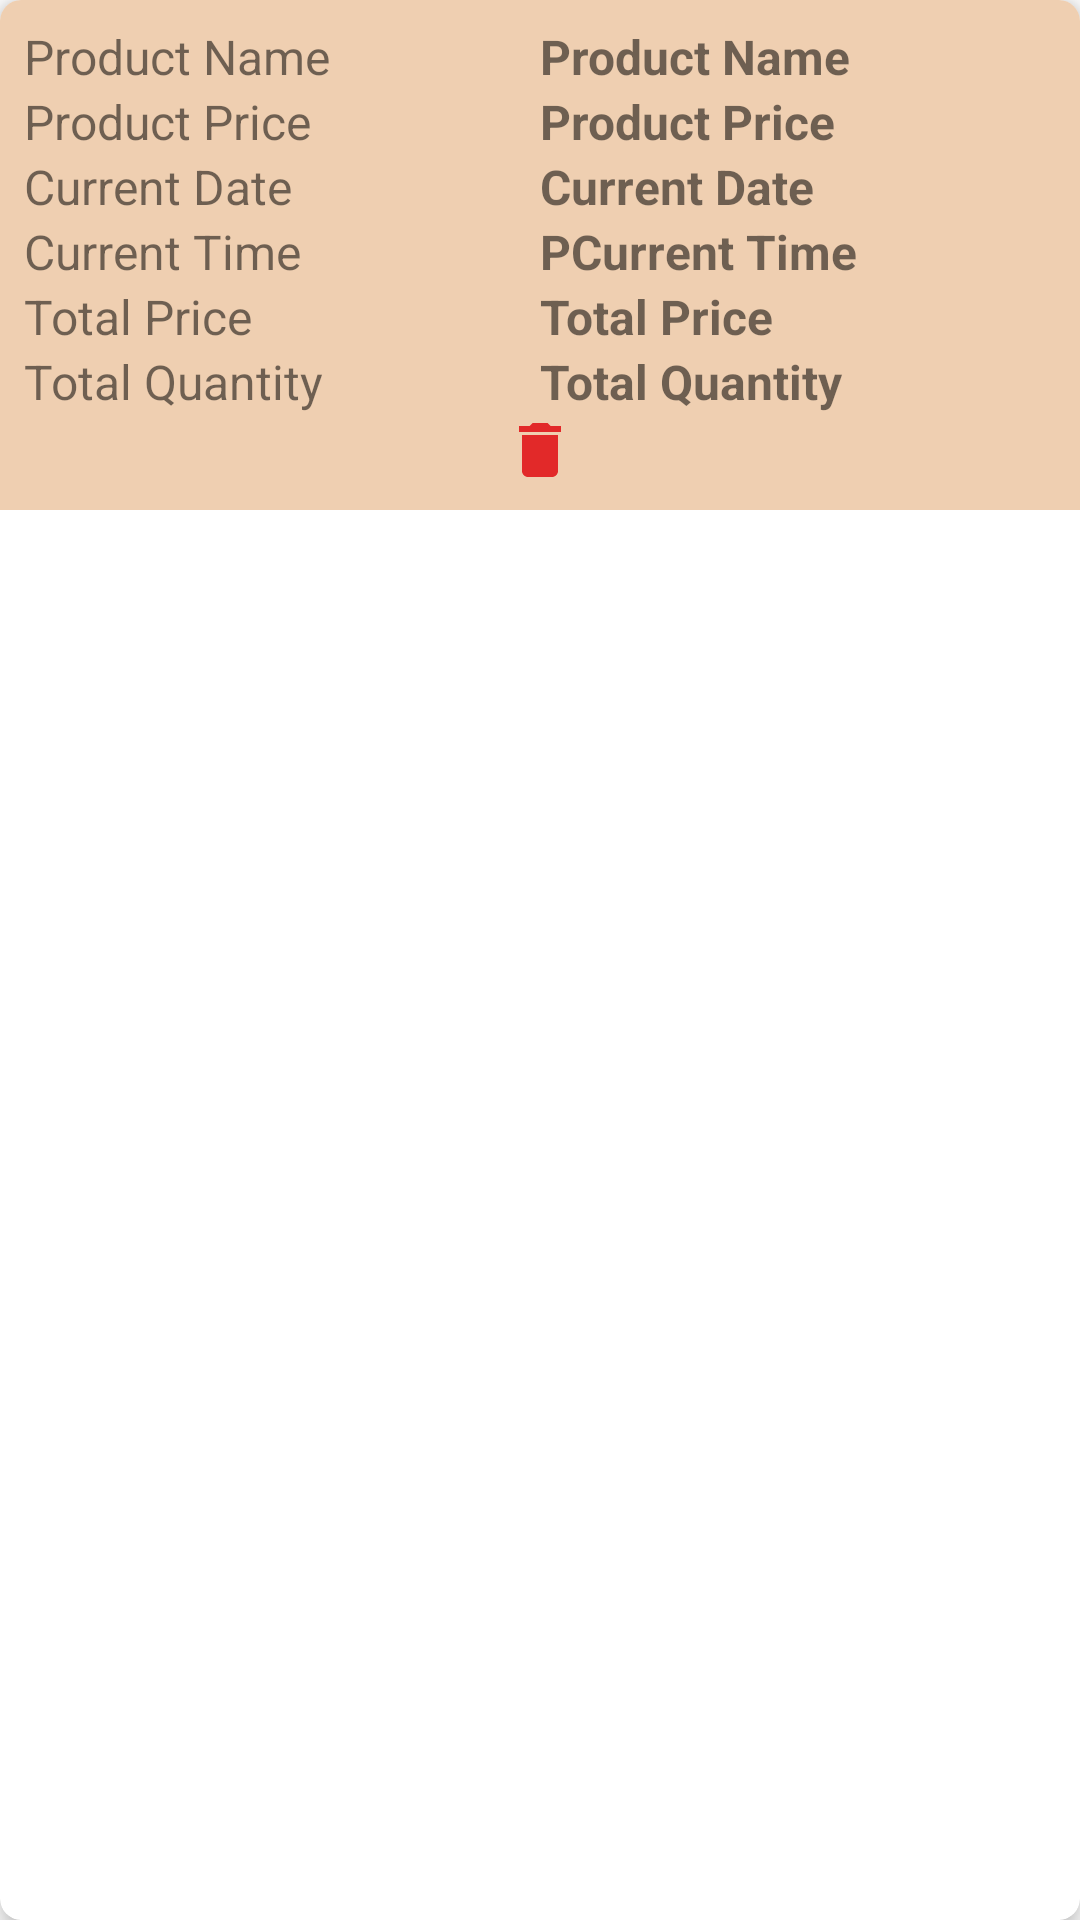

Where to tap for icons on this 1080*1920 app screen, as (x,y):
delete: (540,450)
